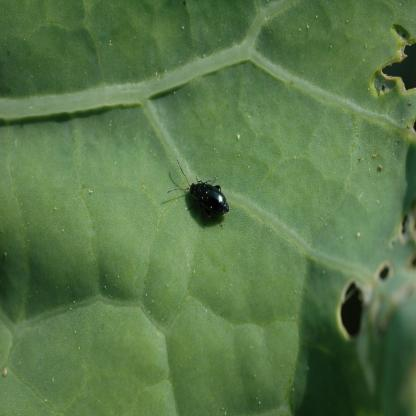beetle: (172, 159, 233, 221)
